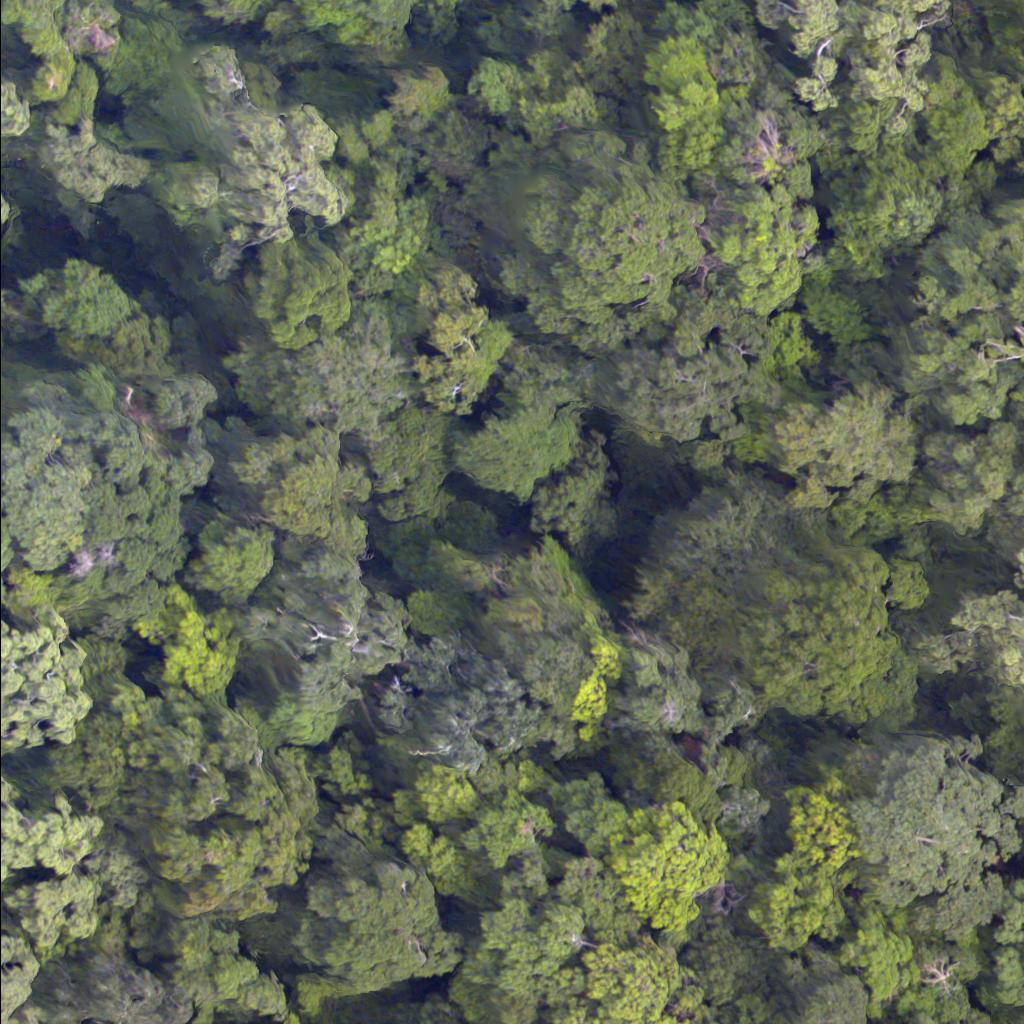crown: (675, 521, 931, 723), (484, 143, 701, 373), (460, 853, 695, 1023), (114, 714, 310, 903), (836, 749, 1023, 942), (238, 550, 417, 721), (892, 211, 1023, 425), (76, 408, 196, 623), (0, 786, 146, 957), (210, 422, 373, 574), (368, 632, 536, 774), (235, 303, 406, 441), (747, 776, 859, 963), (288, 868, 453, 994), (604, 318, 766, 443), (759, 0, 947, 99), (223, 100, 349, 243), (410, 261, 516, 424), (0, 403, 93, 571), (0, 623, 105, 771), (777, 393, 915, 495), (944, 560, 1023, 729), (590, 814, 712, 923), (237, 240, 357, 350), (132, 594, 240, 704), (184, 506, 277, 608), (838, 909, 919, 1019), (51, 968, 169, 1023), (919, 938, 978, 1023), (0, 78, 30, 241), (0, 931, 50, 1023), (788, 971, 873, 1023), (989, 885, 1023, 1003)
